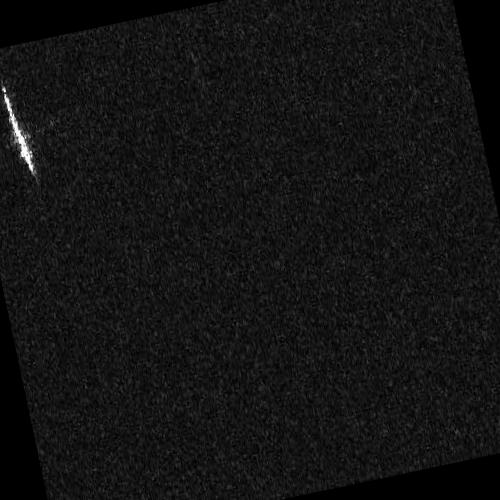ship: (0, 81, 34, 176)
